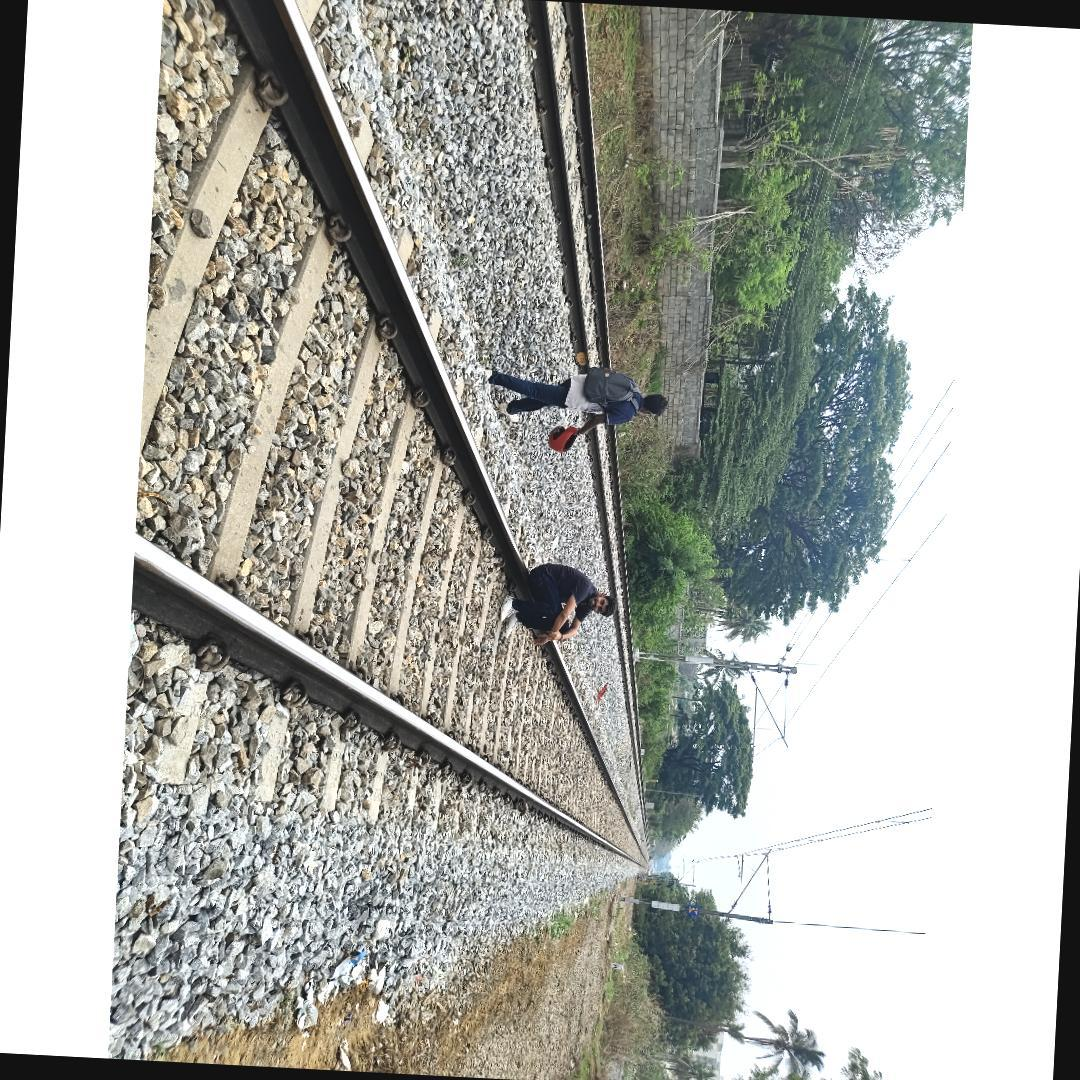sitting: (496, 555, 620, 645)
standing: (480, 362, 676, 454)
track: (130, 0, 653, 871)
